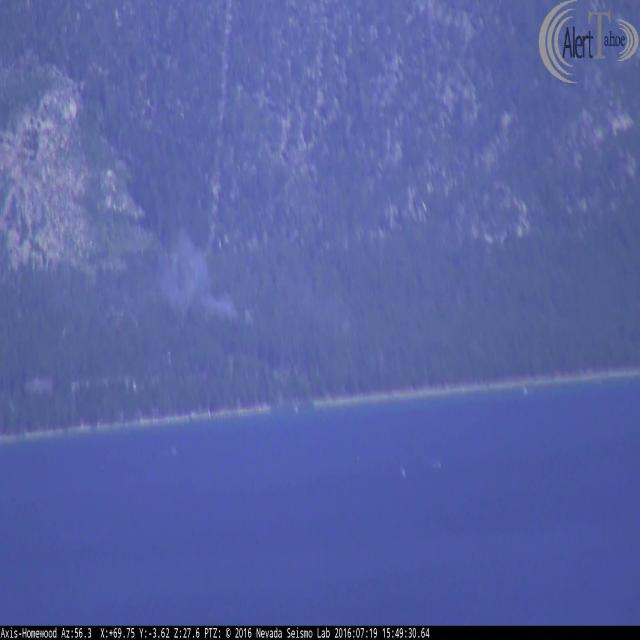smoke: (150, 215, 256, 334)
